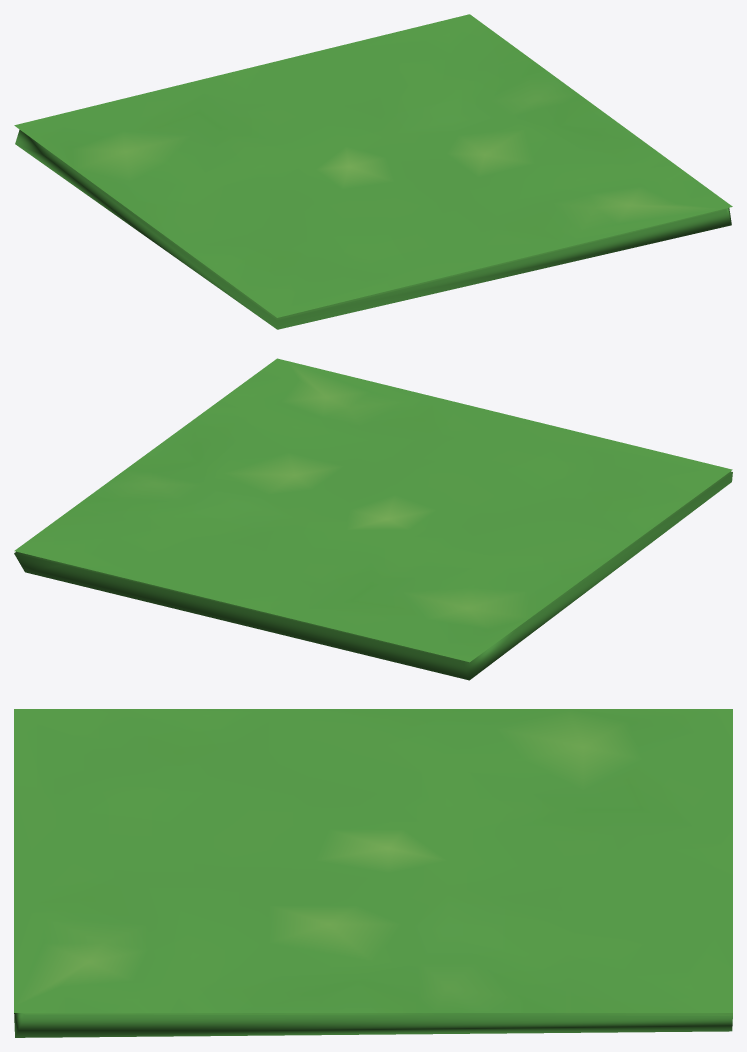
File: grass-ground.glb
3 views of the same model, one above another, from view 1: azimuth 30°, elevation 25°; view 2: azimuth 150°, elevation 25°; view 3: azimuth 270°, elevation 25° (orthographic). The views are drawn at different scales.
Visible parts, largest first — view 1: grass-top, grass; view 2: grass-top, grass; view 3: grass-top, grass.
Boxes of the visible parts, x1,y1,x2,y2 form: grass-top: [14, 14, 732, 317]; grass: [15, 129, 731, 329]; grass-top: [14, 358, 732, 662]; grass: [14, 471, 732, 680]; grass-top: [14, 709, 732, 1012]; grass: [14, 1013, 732, 1037].
Bounding box in the file's own units: 2 × 0.0789 × 2.
